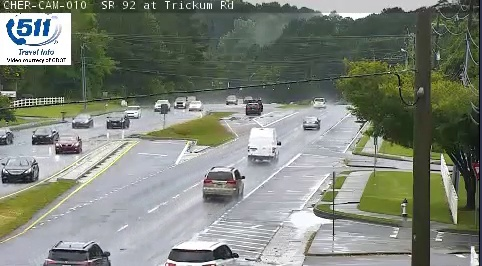car: (44, 243, 108, 266), (203, 167, 243, 195), (304, 117, 320, 129)
van: (247, 127, 277, 160)
